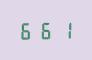one: (55, 19, 72, 39)
six: (18, 20, 35, 40), (37, 20, 54, 39)
